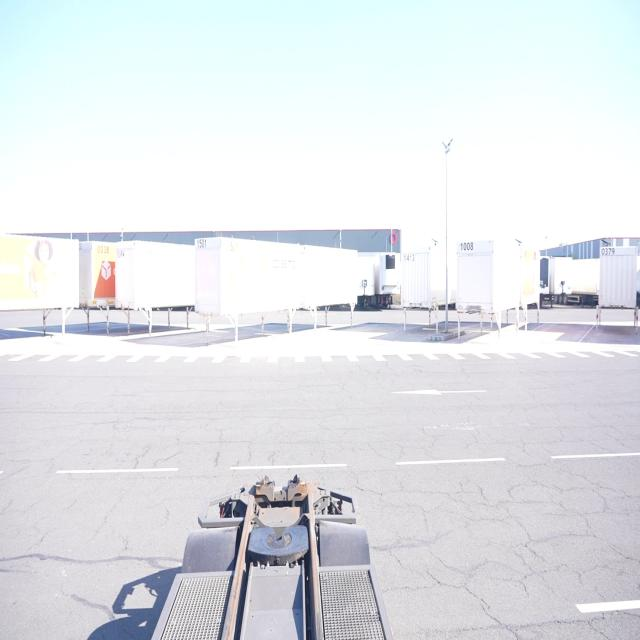Code: (456, 237, 474, 255), (192, 234, 209, 248), (601, 243, 616, 258)
